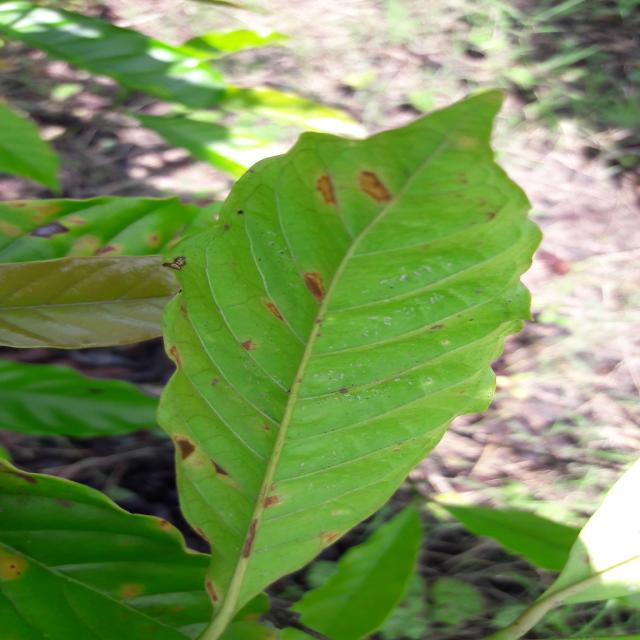Enfermedad-Roya: (156, 91, 543, 640)
